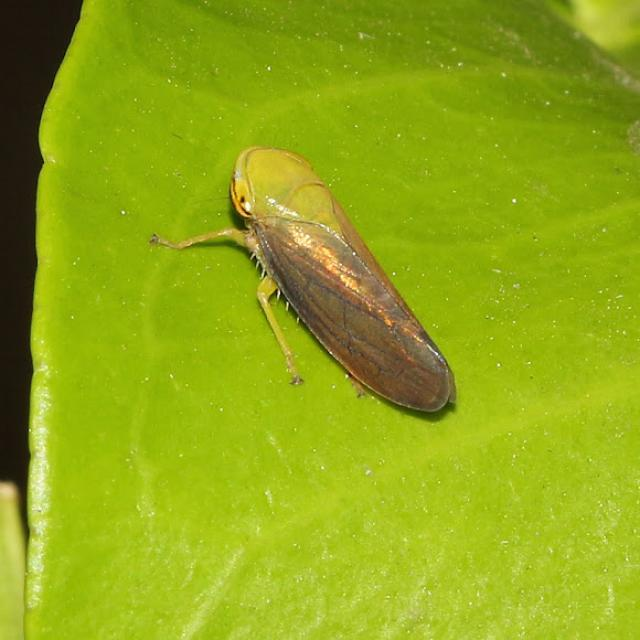Yechan: (204, 137, 476, 430)
